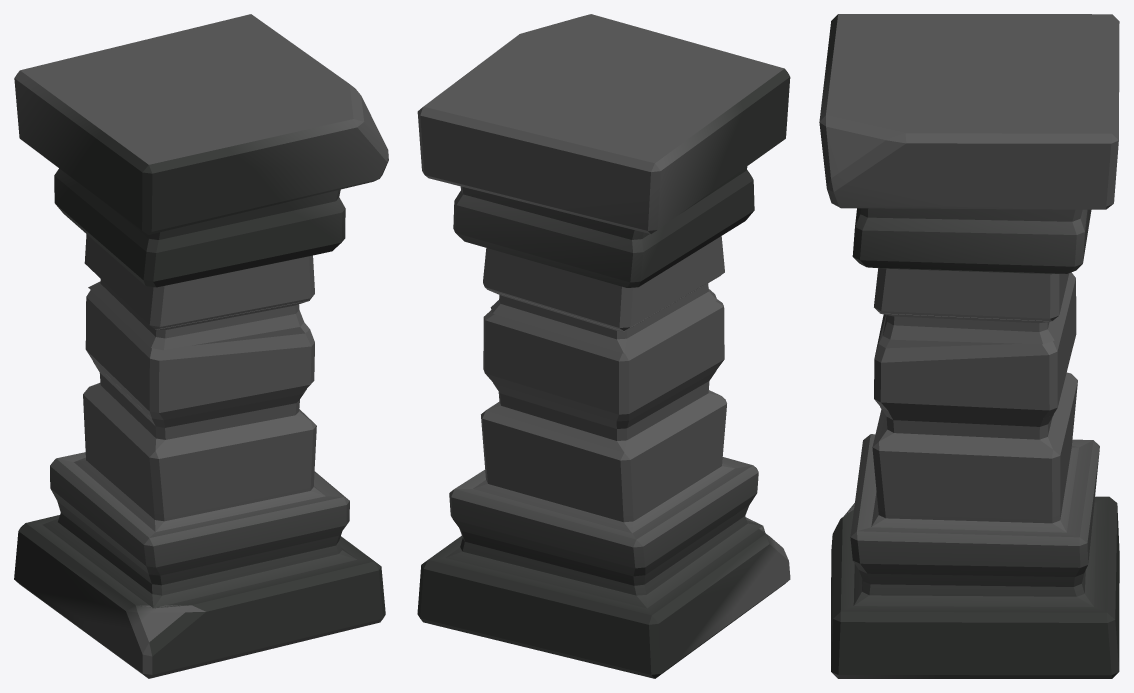
Rendered from stone pilar.fbx.
3 views of the same model, side by side, from view 1: azimuth 30°, elevation 25°; view 2: azimuth 150°, elevation 25°; view 3: azimuth 270°, elevation 25° (orthographic). The views are drawn at different scales.
Visible parts, largest first — view 1: stonepilar_LOD0; view 2: stonepilar_LOD0; view 3: stonepilar_LOD0.
Part boxes in pixels (left/top/right/bottom): stonepilar_LOD0: left=14, top=14, right=388, bottom=678; stonepilar_LOD0: left=417, top=14, right=790, bottom=678; stonepilar_LOD0: left=819, top=14, right=1119, bottom=678.
Size of what is drawn, in the model's own units: 1.99 by 4 by 1.99.
